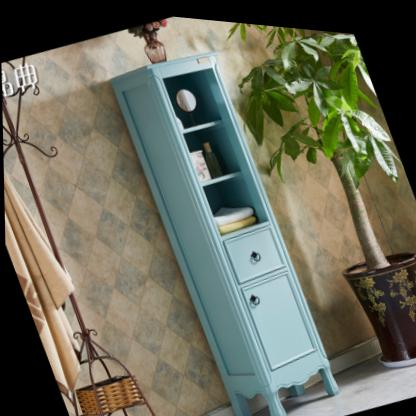Cupboard: (109, 47, 338, 416)
